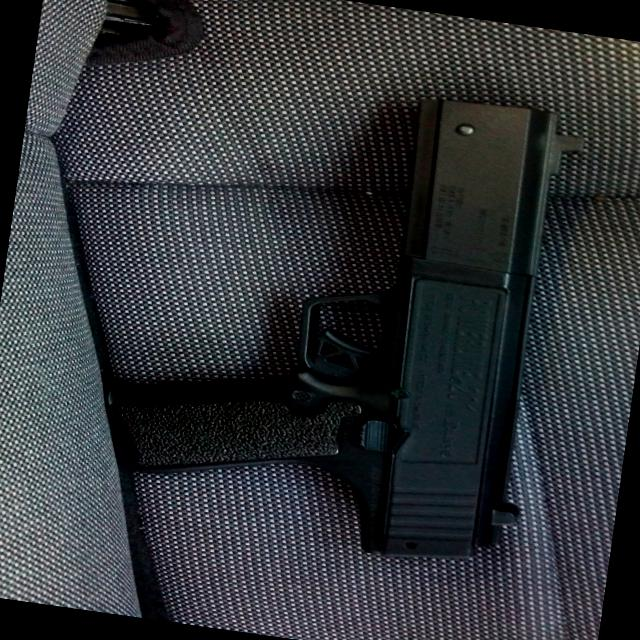handgun: (86, 56, 594, 576)
